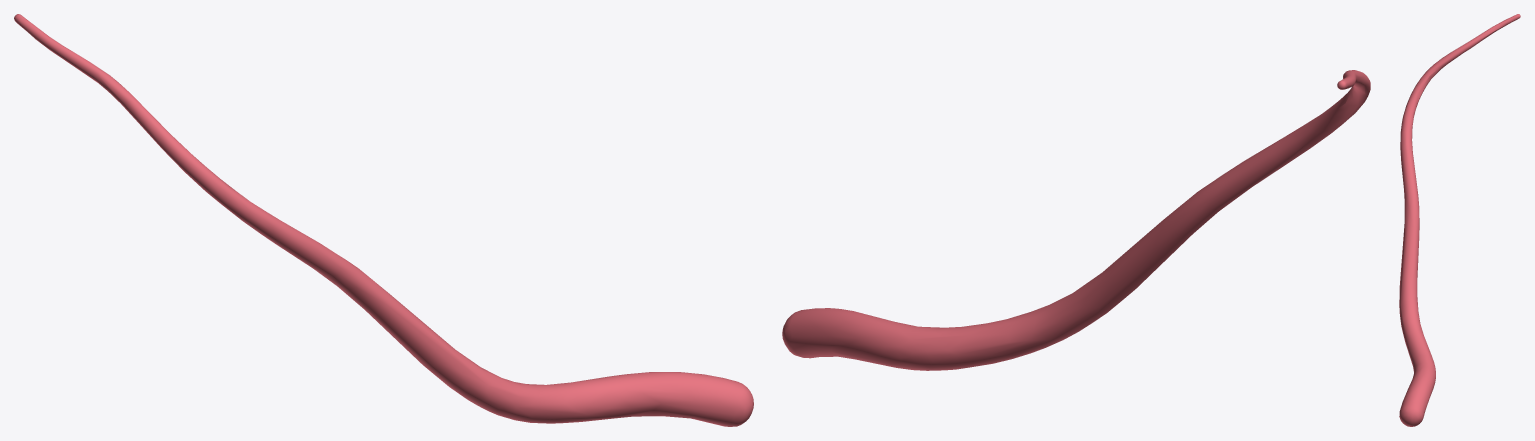
Rendered from fma70442_fj5796.glb.
3 renders of one model, left to right at view 1: azimuth 30°, elevation 25°; view 2: azimuth 150°, elevation 25°; view 3: azimuth 270°, elevation 25°, orthographic. The views are drawn at different scales.
Visible parts, largest first — view 1: FMA70442_FJ5796; view 2: FMA70442_FJ5796; view 3: FMA70442_FJ5796.
Boxes of the visible parts, x1,y1,x2,y2 form: FMA70442_FJ5796: [14, 14, 753, 426]; FMA70442_FJ5796: [782, 70, 1370, 370]; FMA70442_FJ5796: [1399, 14, 1520, 426].
Bounding box in the file's own units: 0.0618 × 0.0452 × 0.0195.
